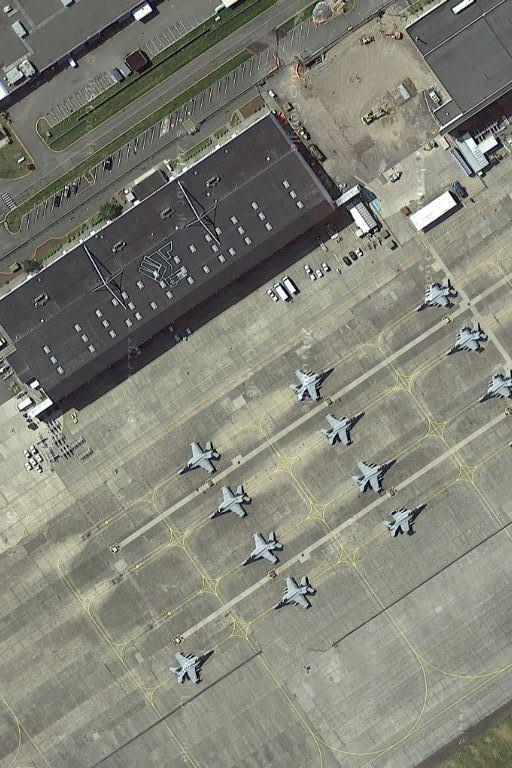F/A-18: (164, 644, 219, 688), (205, 480, 251, 528), (176, 435, 221, 481), (288, 365, 336, 407), (350, 454, 397, 495), (243, 528, 286, 571), (320, 409, 365, 448), (380, 501, 426, 539), (446, 319, 486, 360), (274, 573, 315, 613), (419, 274, 457, 315), (477, 366, 511, 406)
